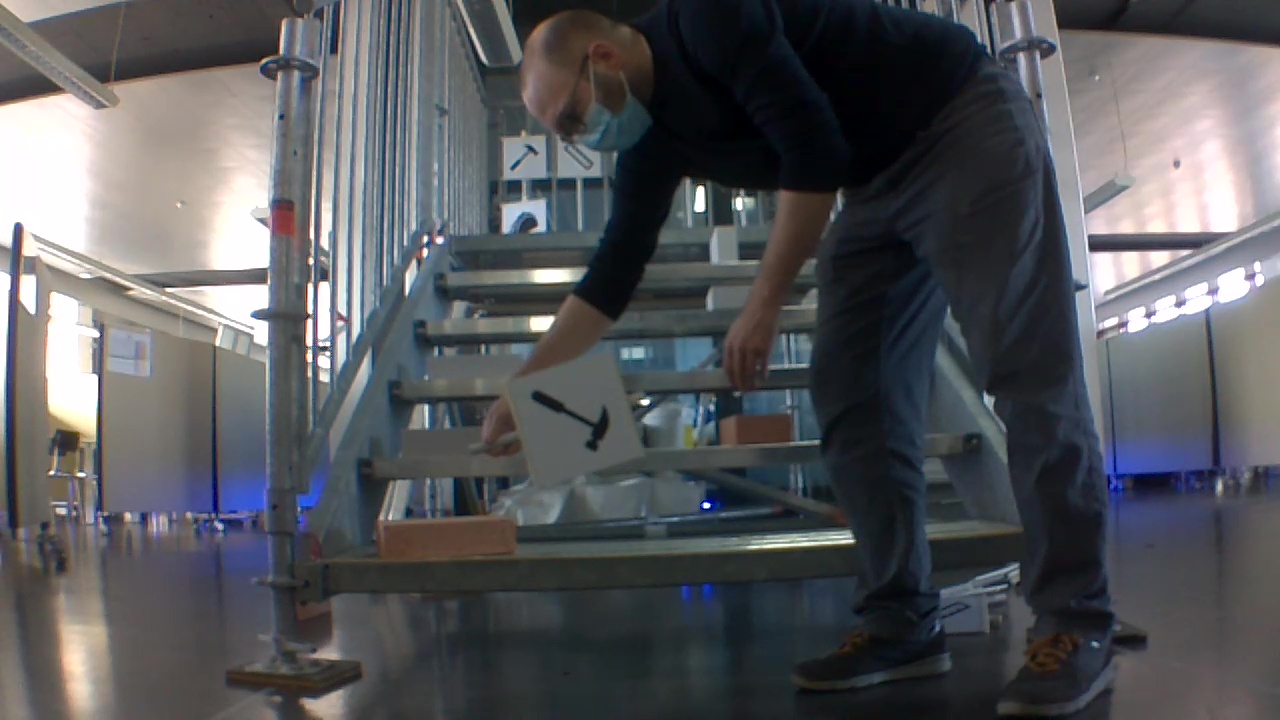brick: (376, 516, 513, 558), (427, 354, 523, 379), (402, 428, 481, 458), (719, 414, 790, 443), (710, 227, 739, 262), (708, 287, 752, 307)
hammer: (506, 141, 540, 174)
ruler: (560, 142, 596, 173)
taco: (506, 207, 540, 232)
